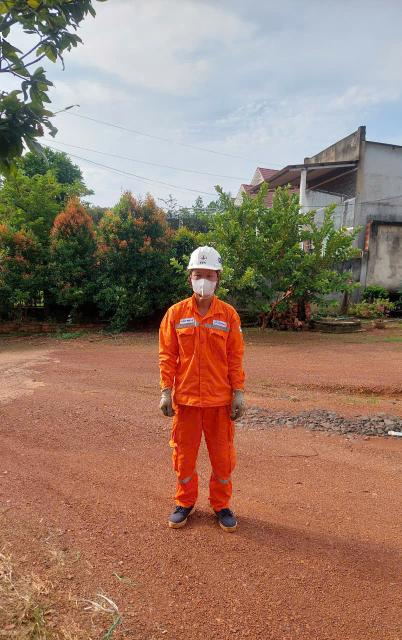gloves: (224, 385, 259, 427), (155, 378, 180, 417)
helmet: (180, 246, 231, 276)
shoes: (209, 498, 247, 532), (166, 494, 198, 531)
